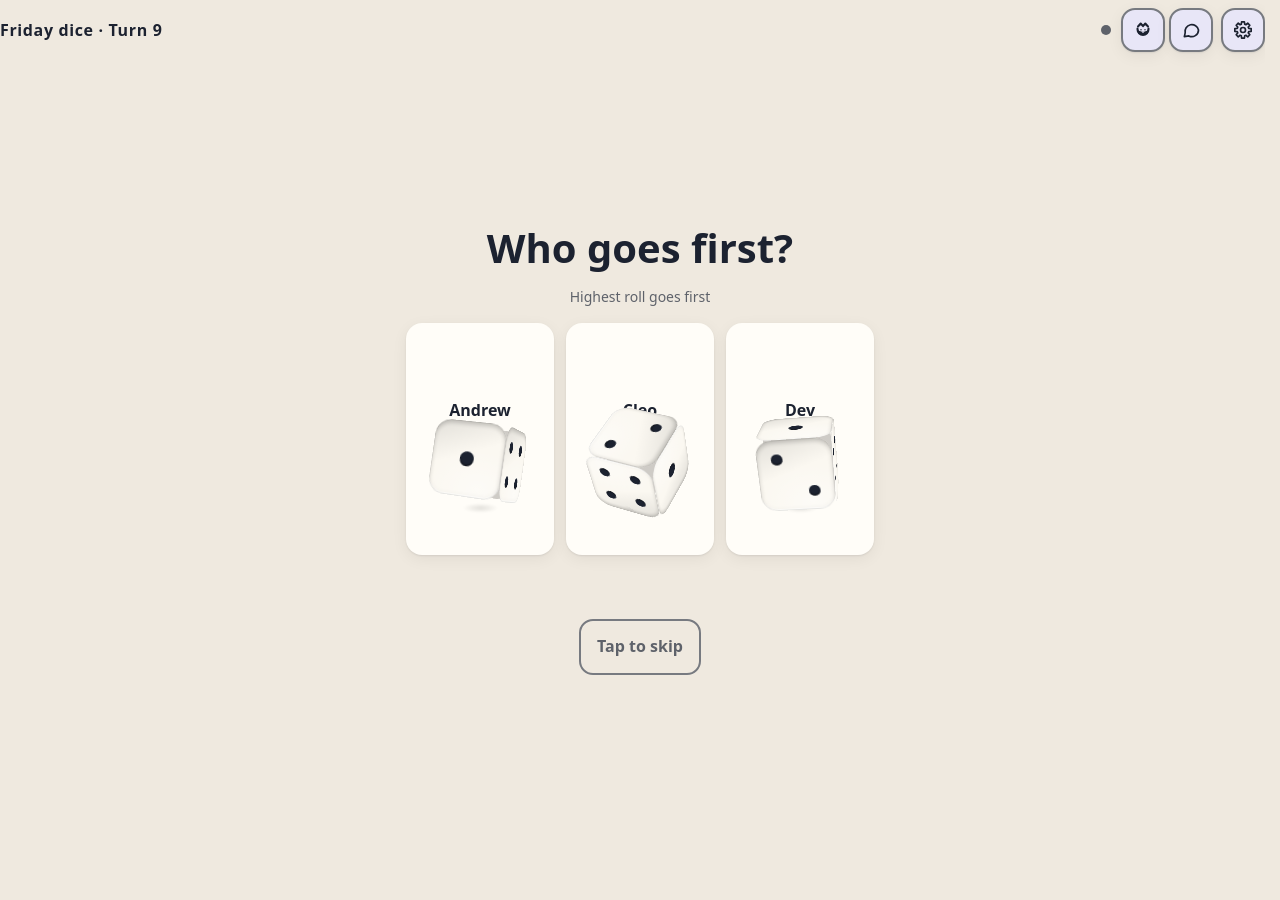
Test case: roll-off overlay (K4.1) › the roll-off shows once; tap skips to the result, Let's go closes it
What coordinates should you click on to do the following:
click the element with test id "rolloff"
I would click on:
 (77, 450)
Its box is [0,0,1279,899].
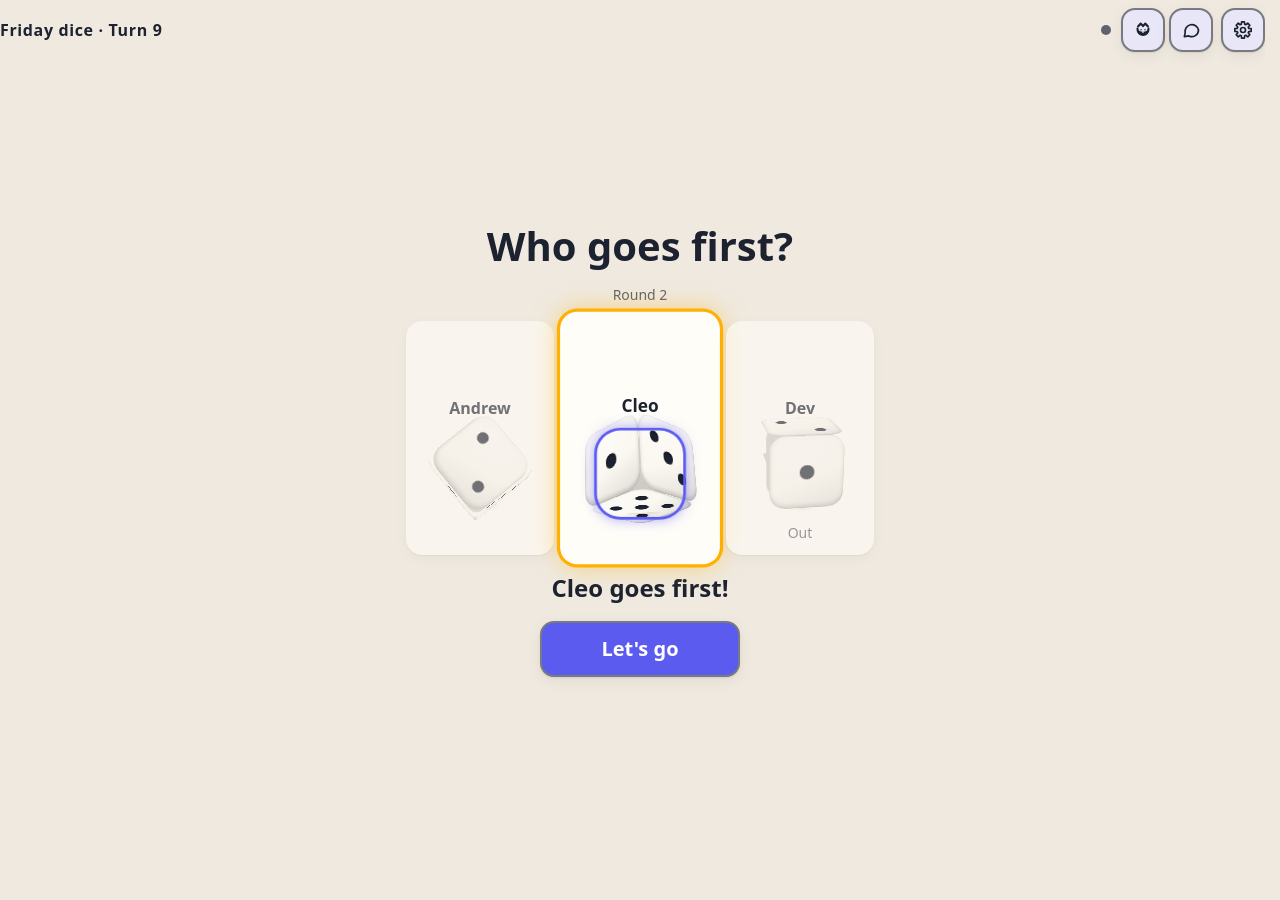
What coordinates should you click on to do the following:
click the button with test id "rolloff-go"
I would click on:
 (640, 649)
Its box is [540,621,740,677].
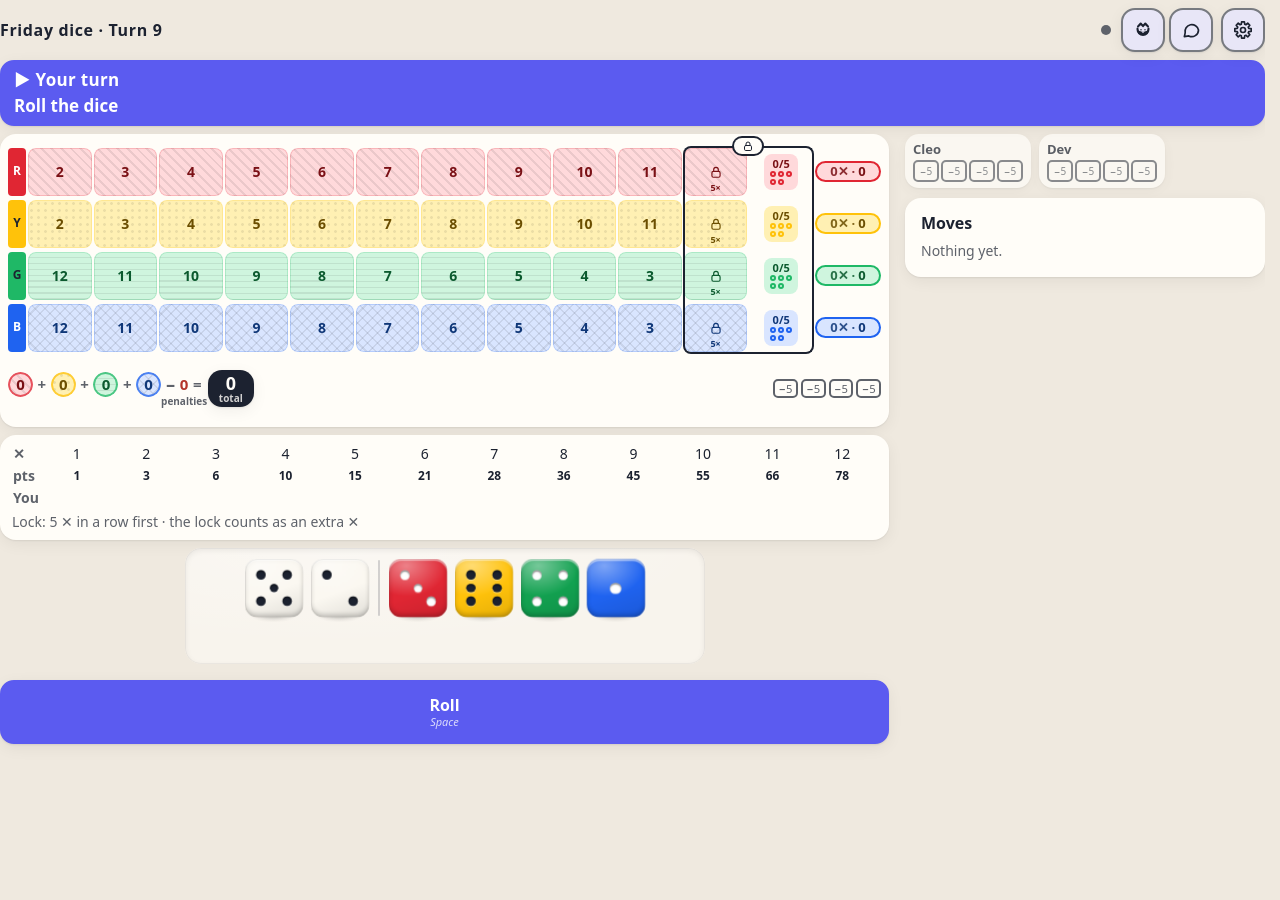
Expected: the element with test id "rolloff" is gone
